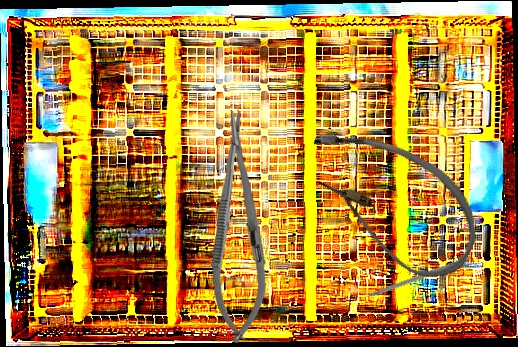Cannula: (280, 110, 499, 292)
Hook Surgical: (346, 256, 471, 306)
Needle Holder: (208, 109, 269, 343)
